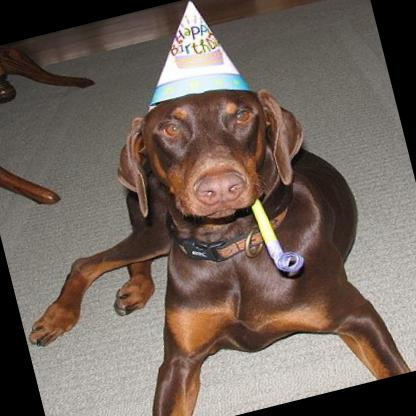Doberman: (0, 55, 411, 416)
